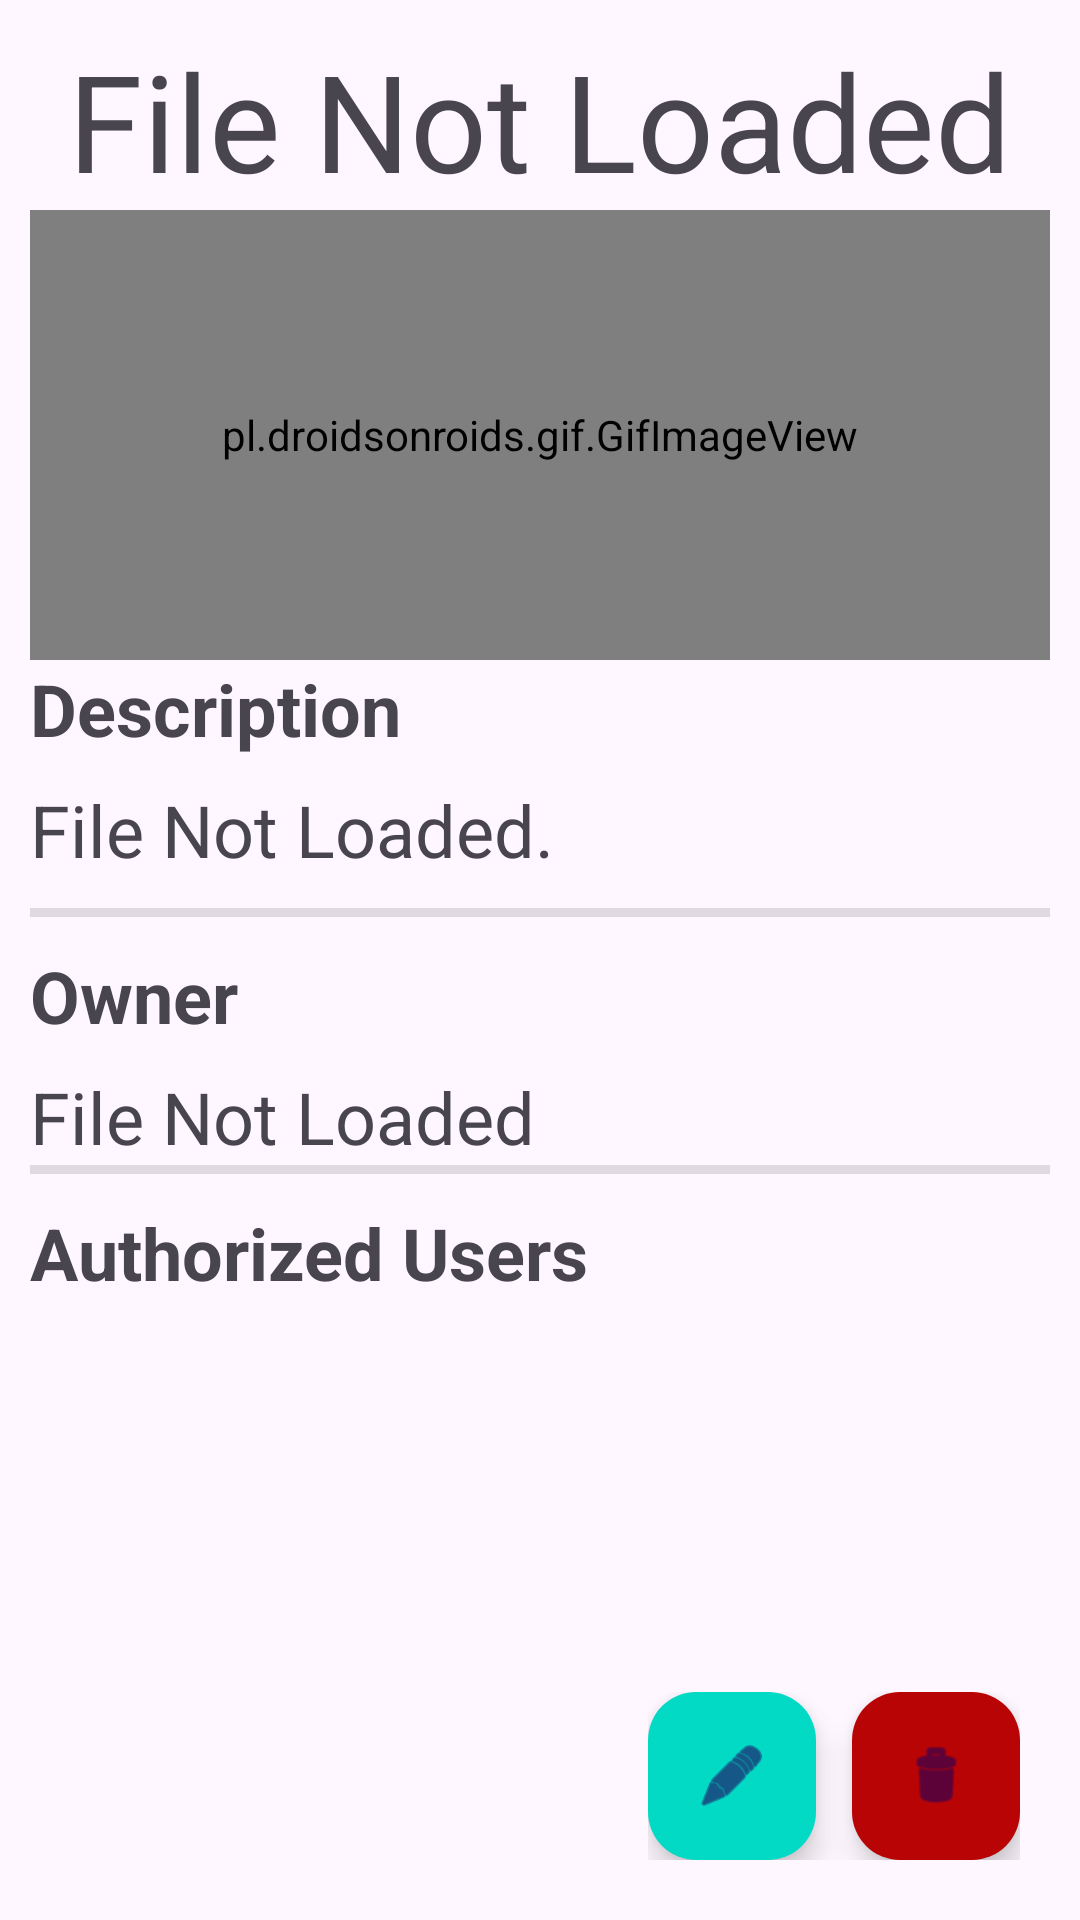

Where to tap for icons on this 1080x1920 app screen, as [x,y]:
delete: [936,1776]
edit: [732,1776]
